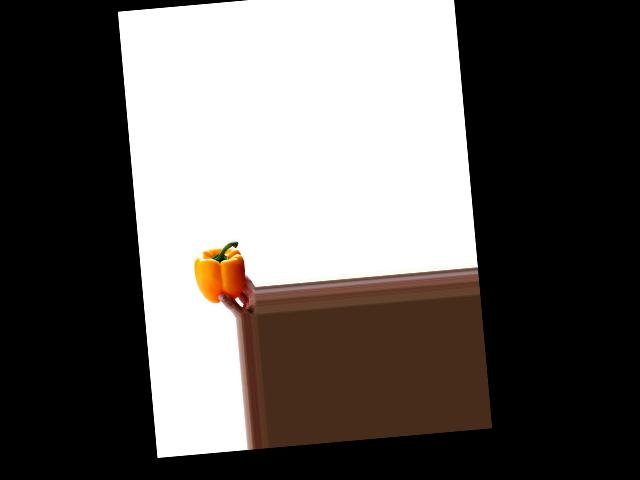bell_pepper: (190, 238, 247, 305)
